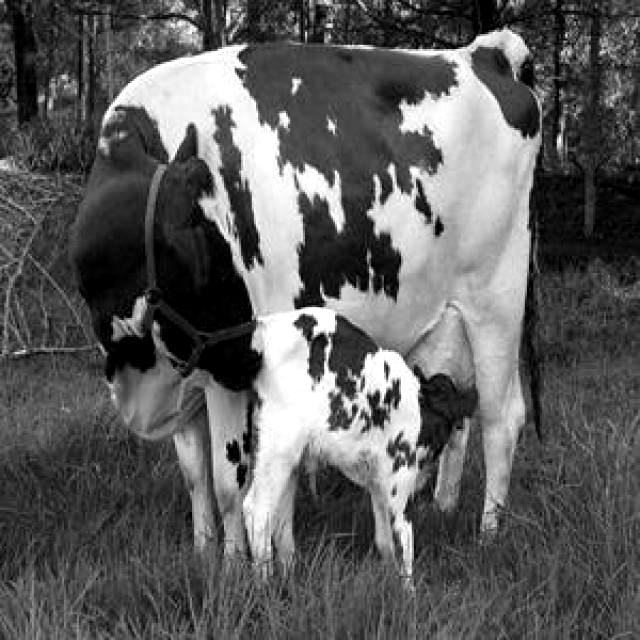COW: (71, 31, 541, 558), (244, 308, 476, 576), (435, 419, 469, 508)
